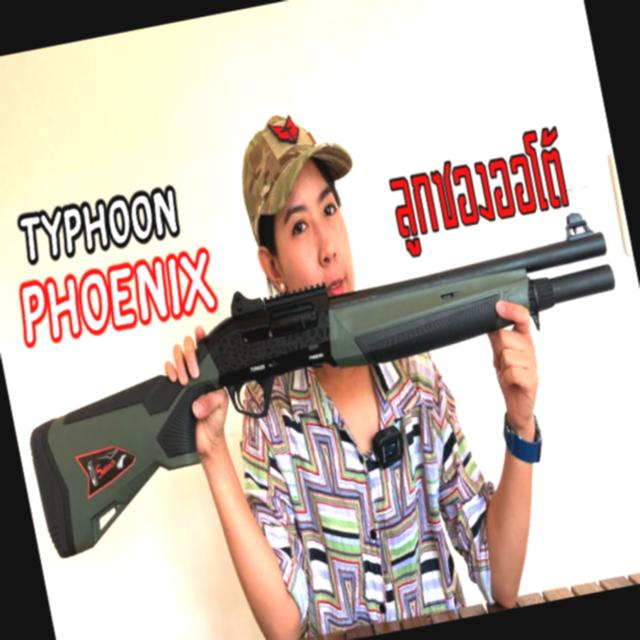shotgun: (17, 207, 640, 546)
